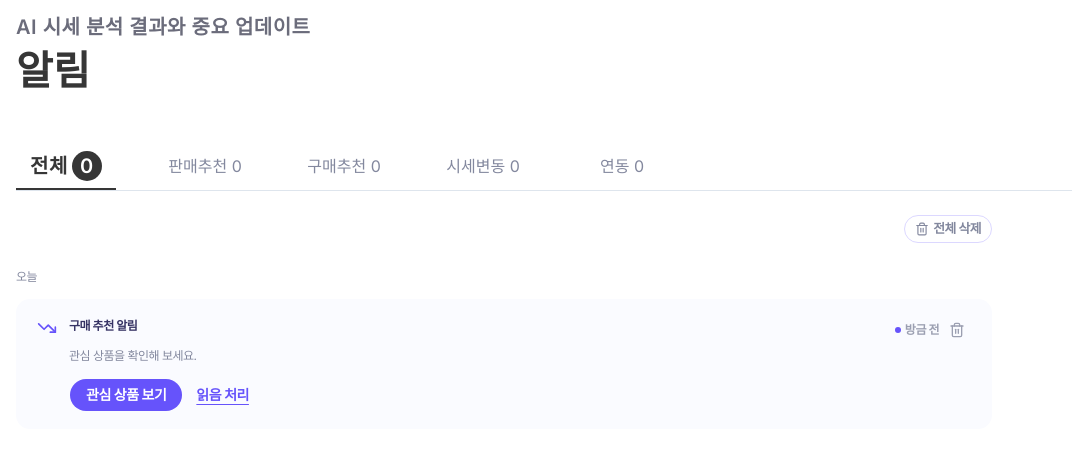
Test: 알림 삭제에 실패하면 알림을 복구하고 오류를 안내한다
Check: the heading "구매 추천 알림" is shown, box [69, 316, 137, 336]
What coordinates should you click on to do the following:
click the button named "알림 삭제"
I would click on:
 (957, 330)
Its box is [943, 316, 971, 344].
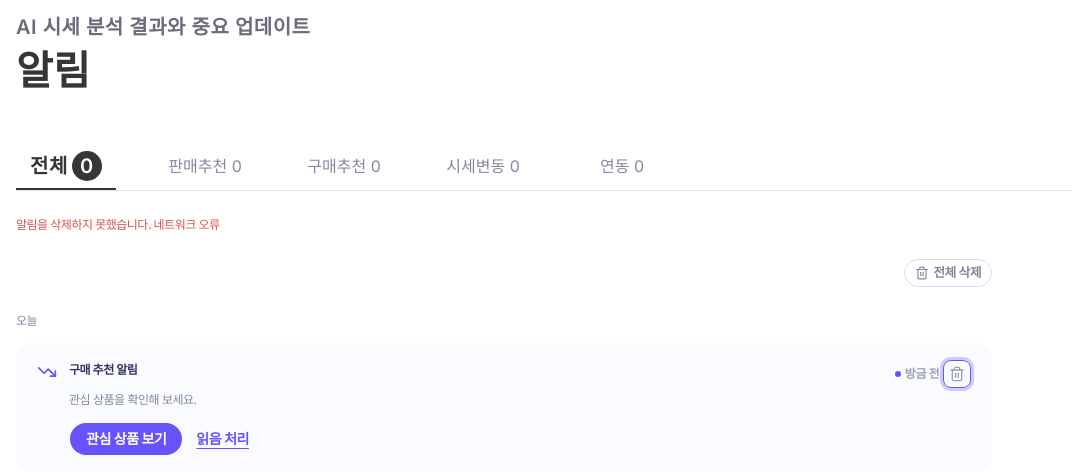
Check: the heading "구매 추천 알림" is shown, box [69, 360, 137, 380]
Check: the message reads "알림을 삭제하지 못했습니다. 네트워크 오류", box [16, 217, 220, 232]
